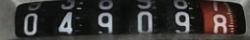digits: (57, 11, 73, 34), (22, 12, 38, 35), (173, 11, 190, 32), (136, 11, 152, 32), (212, 13, 228, 33), (97, 12, 112, 32)
